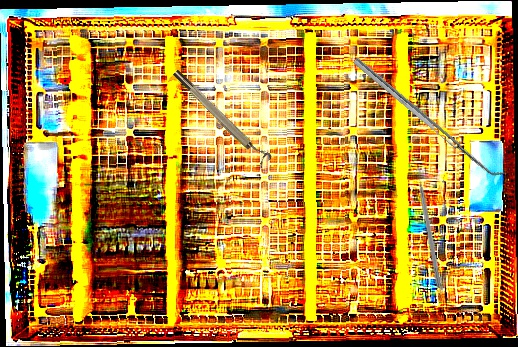Fixation Ring: (170, 63, 274, 170)
Pusher: (414, 164, 444, 289)
Spatula Surgical: (352, 52, 506, 183)
